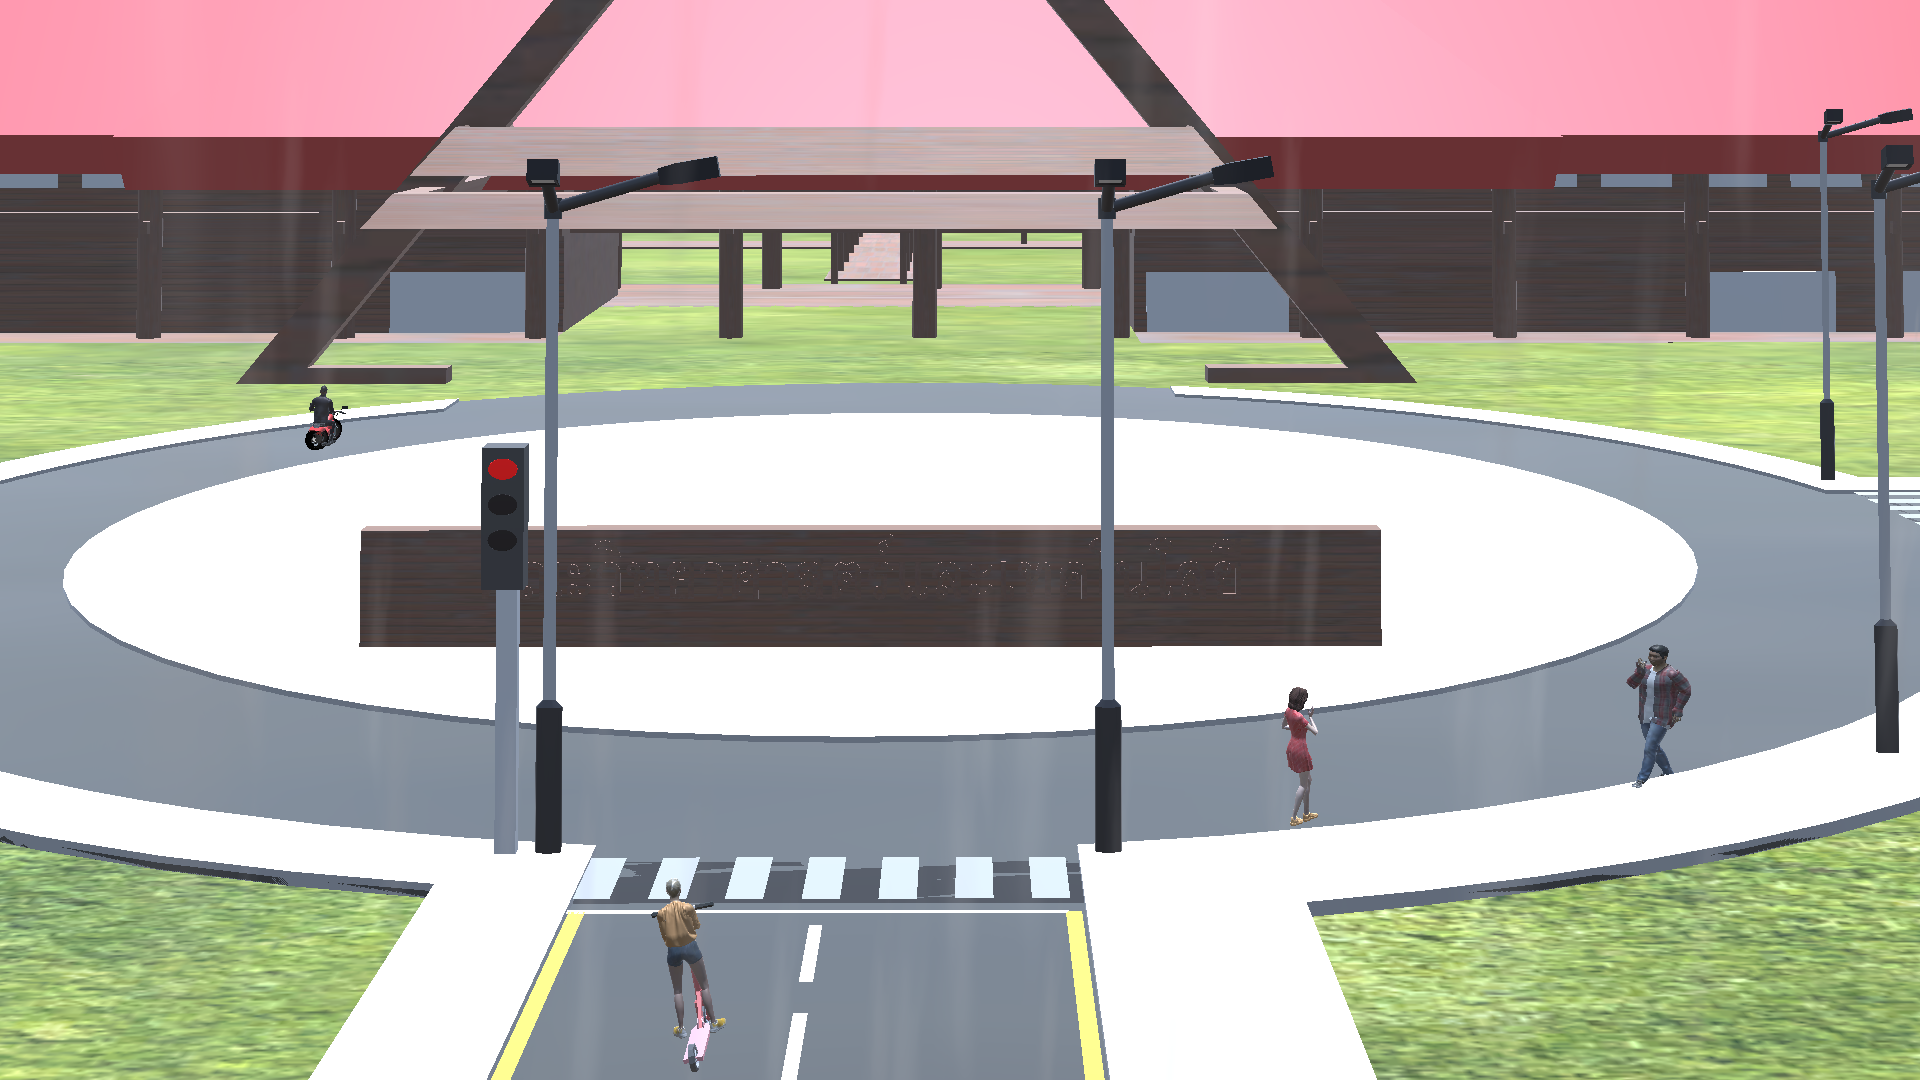pedestrian: (1619, 636, 1695, 797), (1276, 686, 1330, 829)
